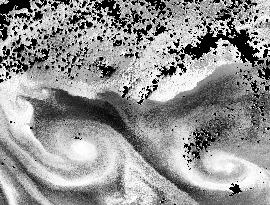CE: (46, 115, 119, 181), (197, 141, 259, 194)
